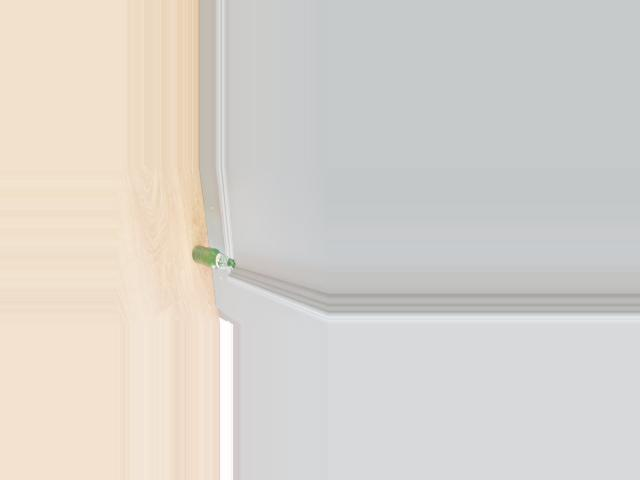beer: (192, 246, 234, 268)
